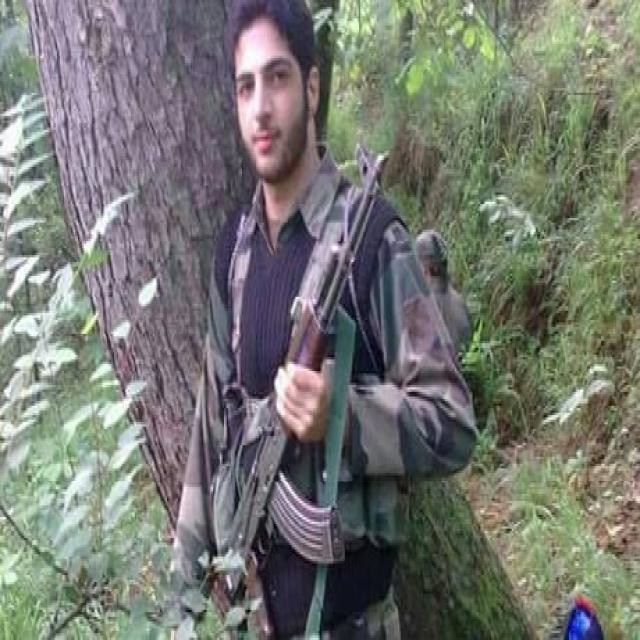Forest: (0, 0, 639, 640)
Militant: (176, 4, 474, 640)
